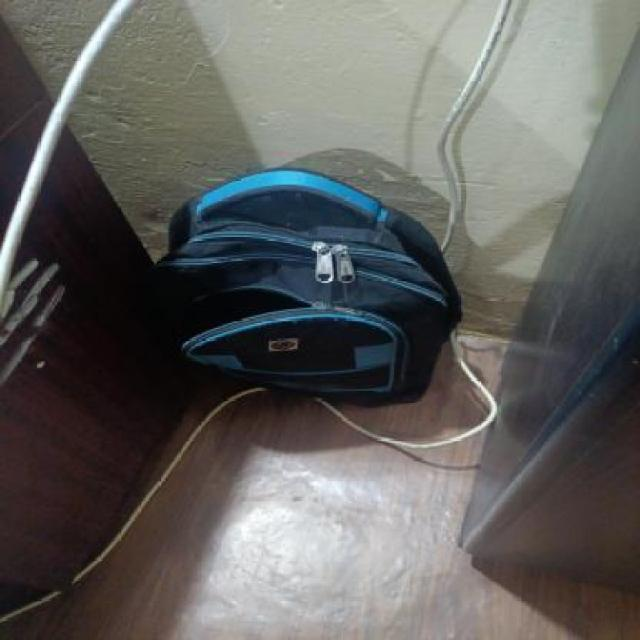backpack: (140, 160, 468, 409)
